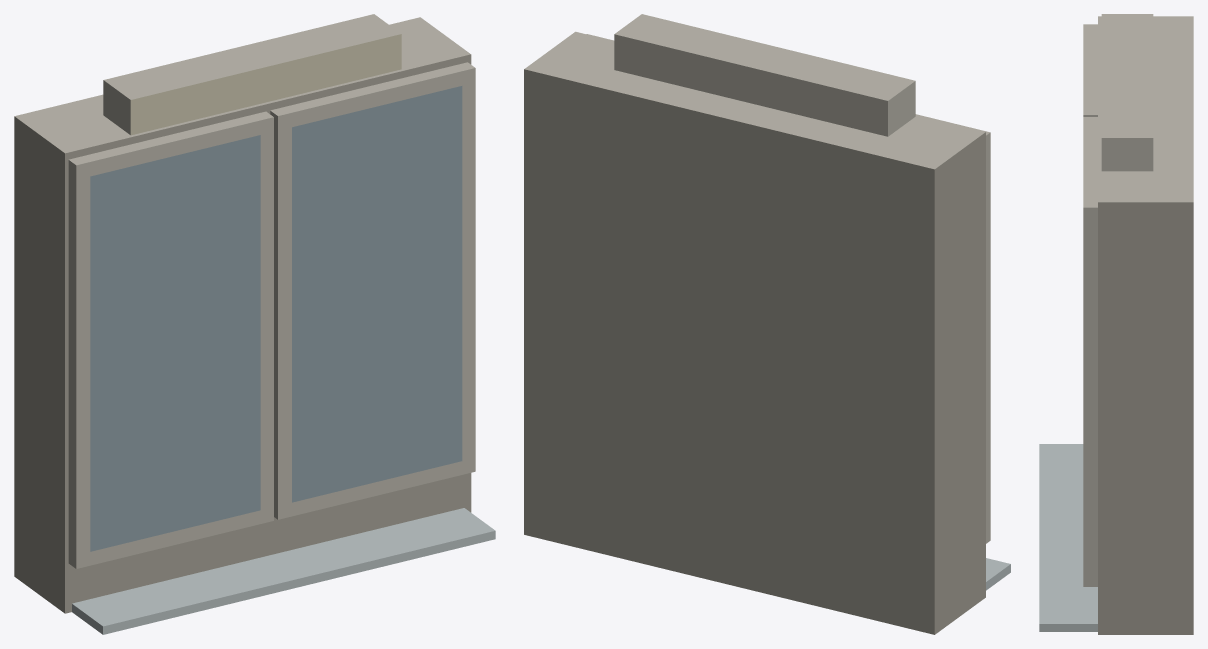
File: bathroom-cabinet.glb
3 renders of one model, left to right at view 1: azimuth 30°, elevation 25°; view 2: azimuth 150°, elevation 25°; view 3: azimuth 270°, elevation 25°, orthographic. The views are drawn at different scales.
Parts seen in each view (by area): view 1: bathroom-cabinet; view 2: bathroom-cabinet; view 3: bathroom-cabinet.
Part boxes in pixels (box(x1,y1,x2,y2)): bathroom-cabinet: box(14, 14, 495, 634); bathroom-cabinet: box(524, 14, 1010, 634); bathroom-cabinet: box(1039, 14, 1193, 634).
Size of the model in its own units: 0.6 by 0.7 by 0.21.
